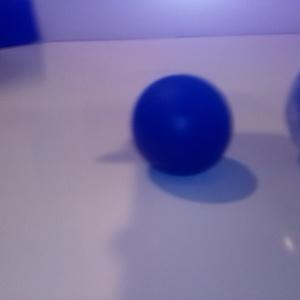alive_ball: (286, 73, 300, 151)
dead_ball: (133, 75, 232, 177)
